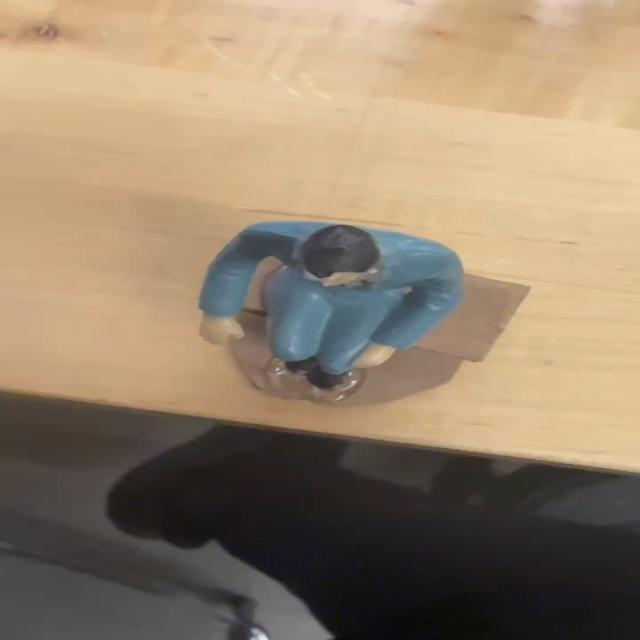Authorized: (171, 204, 495, 447)
